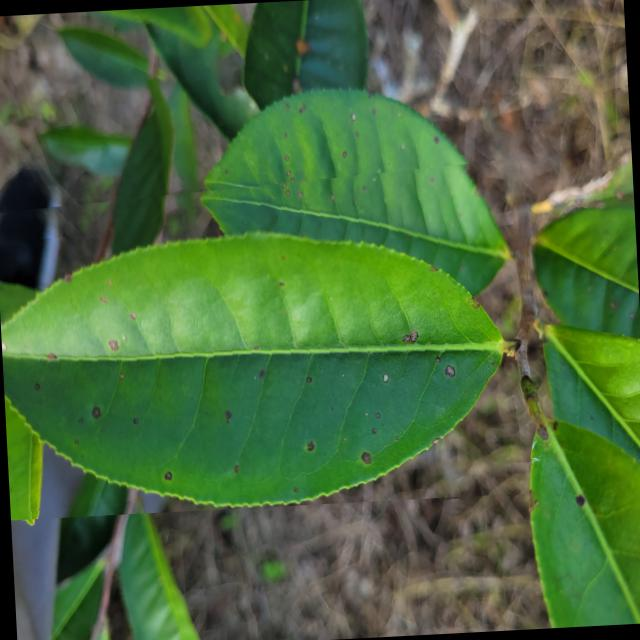Category D(7+ days, Not for Tea): (0, 158, 541, 520)
